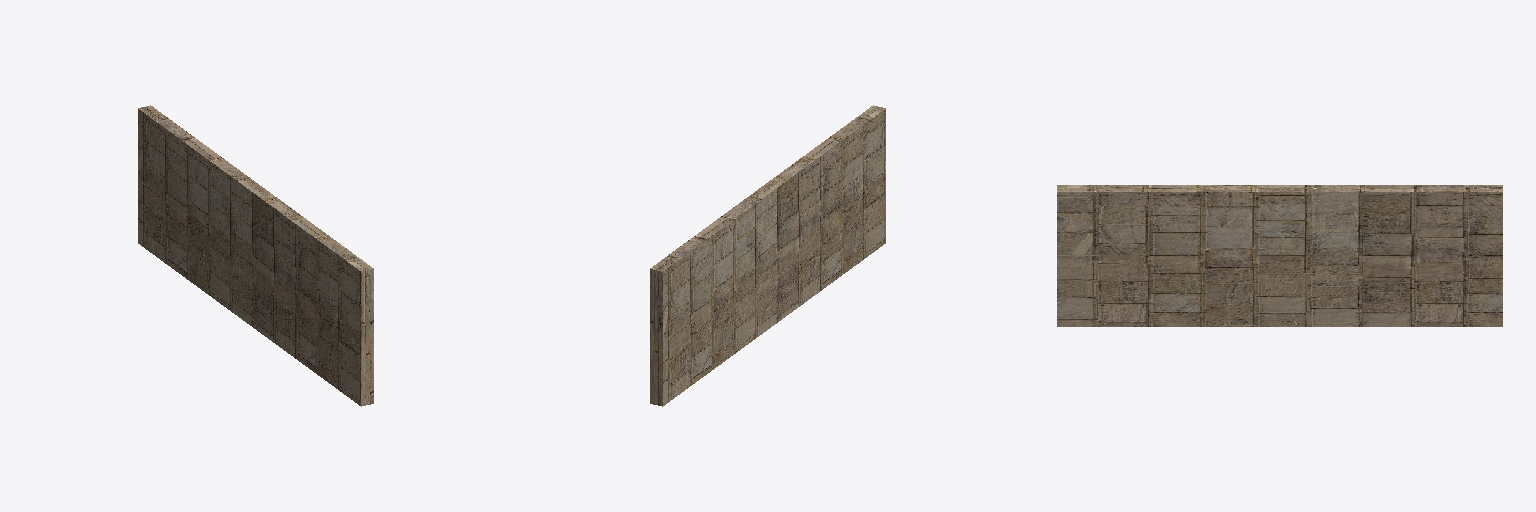
3 views of the same model, side by side, from view 1: azimuth 30°, elevation 25°; view 2: azimuth 150°, elevation 25°; view 3: azimuth 270°, elevation 25° (orthographic).
Parts seen in each view (by area): view 1: Cube_Cube.001; view 2: Cube_Cube.001; view 3: Cube_Cube.001.
Part boxes in pixels (bbox=[...]): Cube_Cube.001: bbox=[138, 105, 373, 406]; Cube_Cube.001: bbox=[650, 105, 885, 406]; Cube_Cube.001: bbox=[1057, 185, 1502, 326].
Bounding box in the file's own units: 1 × 10 × 30.
Materials: 1 (1 with a texture image).